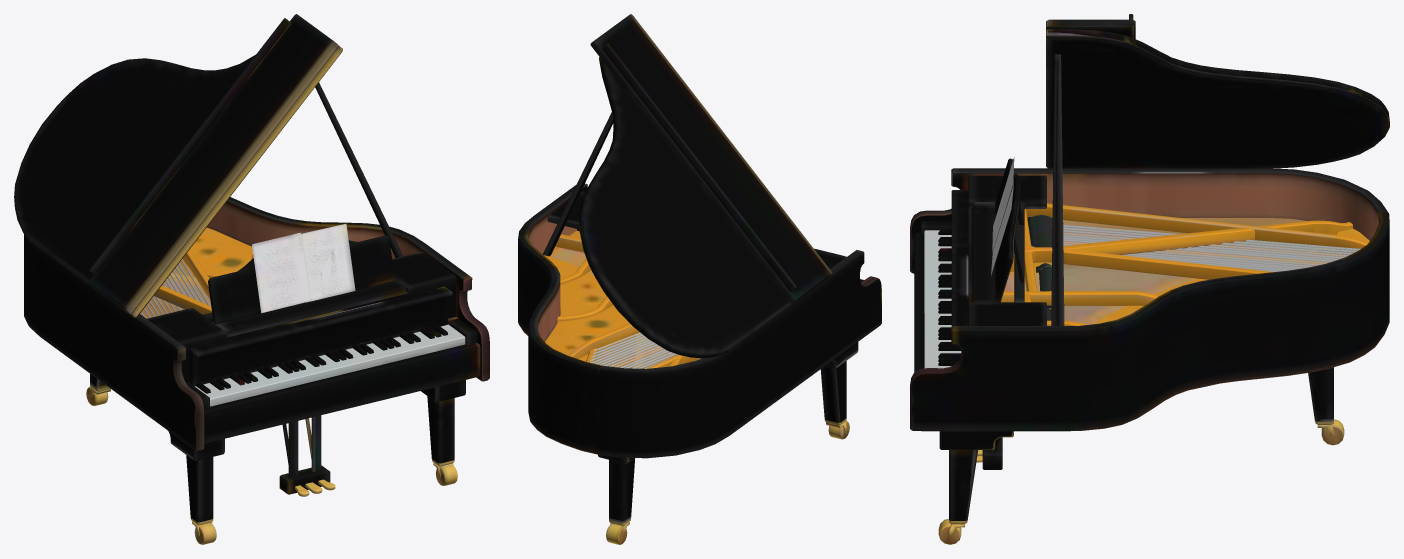
3 views of the same model, side by side, from view 1: azimuth 30°, elevation 25°; view 2: azimuth 150°, elevation 25°; view 3: azimuth 270°, elevation 25° (orthographic). The views are drawn at different scales.
Size of the model in its own units: 16.42 by 22.06 by 19.84.
Materials: 2 (2 with a texture image).
